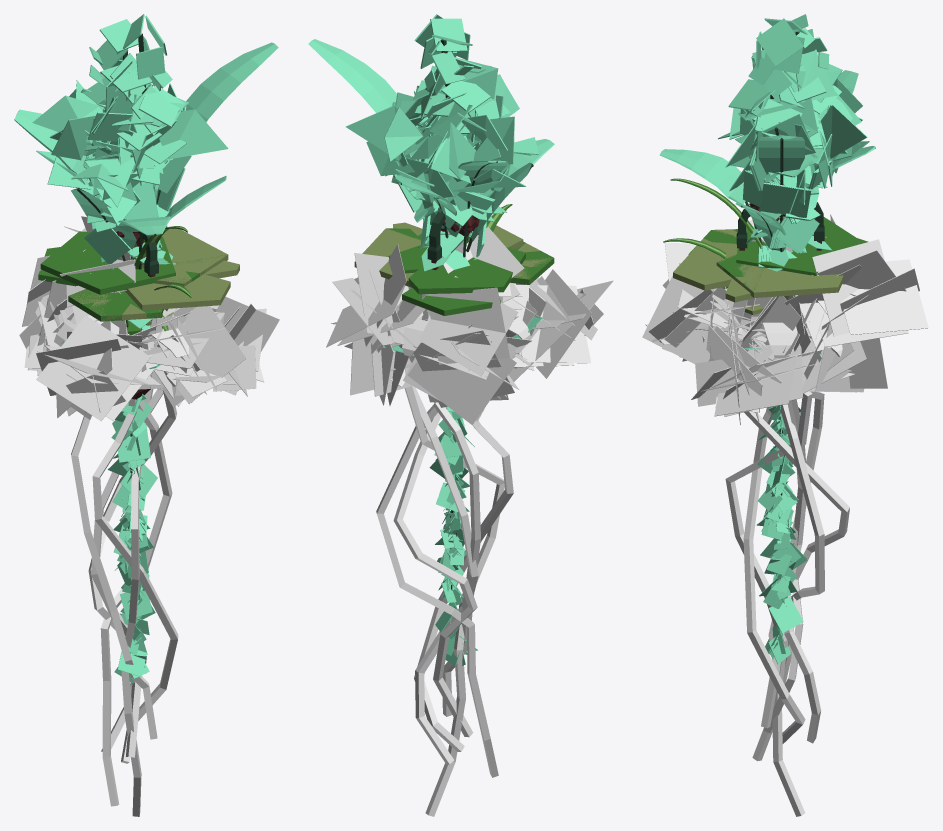
File: Plants.fbx
The picture shows the model from 3 angles, left to right: view 1: azimuth 30°, elevation 25°; view 2: azimuth 150°, elevation 25°; view 3: azimuth 270°, elevation 25°; orthographic projection.
Parts seen in each view (by area): view 1: Sweet Berry Bush 1 Stage 4, Sweet Berry Bush 2 Stage 4, Pond Boats 1 Stage 3, Spice Bark 2 Stage 4, Spice Bark 1 Stage 4, Bird of Paradise 3, Blood Berry 1 Stage 4, Pond Boats 3 Stage 3, Ivy 1, Blood Berry 2 Stage 4, Vine 4, Vine 5 (+15 smaller); view 2: Sweet Berry Bush 1 Stage 4, Sweet Berry Bush 2 Stage 4, Spice Bark 2 Stage 4, Spice Bark 1 Stage 4, Bird of Paradise 3, Pond Boats 1 Stage 3, Sweet Berry Bush 2 Stage 3, Vine 4, Vine 6, Vine 2, Vine 1, Blood Berry 1 Stage 4 (+14 smaller); view 3: Sweet Berry Bush 1 Stage 4, Sweet Berry Bush 2 Stage 4, Blood Berry 2 Stage 4, Pond Boats 1 Stage 3, Spice Bark 2 Stage 4, Sweet Berry Bush 2 Stage 3, Spice Bark 1 Stage 4, Bird of Paradise 3, Blood Berry 1 Stage 4, Vine 5, Vine 1, Ivy 2 (+14 smaller).
Boxes of the visible parts, <box> form: Sweet Berry Bush 1 Stage 4: <box>19,228,264,421</box>; Sweet Berry Bush 2 Stage 4: <box>22,216,279,419</box>; Pond Boats 1 Stage 3: <box>40,231,239,310</box>; Spice Bark 2 Stage 4: <box>32,56,189,226</box>; Spice Bark 1 Stage 4: <box>36,60,228,219</box>; Bird of Paradise 3: <box>14,42,278,269</box>; Blood Berry 1 Stage 4: <box>83,19,191,259</box>; Pond Boats 3 Stage 3: <box>68,226,228,327</box>; Ivy 1: <box>107,400,157,683</box>; Blood Berry 2 Stage 4: <box>80,14,179,263</box>; Vine 4: <box>100,400,172,806</box>; Vine 5: <box>92,398,178,763</box>; Sweet Berry Bush 1 Stage 4: <box>331,243,597,424</box>; Sweet Berry Bush 2 Stage 4: <box>326,227,613,407</box>; Spice Bark 2 Stage 4: <box>384,57,538,210</box>; Spice Bark 1 Stage 4: <box>345,72,531,211</box>; Bird of Paradise 3: <box>308,39,554,257</box>; Pond Boats 1 Stage 3: <box>388,222,525,294</box>; Sweet Berry Bush 2 Stage 3: <box>337,276,573,405</box>; Vine 4: <box>376,404,498,777</box>; Vine 6: <box>393,412,477,737</box>; Vine 2: <box>412,386,478,764</box>; Vine 1: <box>404,386,504,816</box>; Blood Berry 1 Stage 4: <box>398,35,503,252</box>; Sweet Berry Bush 1 Stage 4: <box>642,236,919,416</box>; Sweet Berry Bush 2 Stage 4: <box>645,214,928,424</box>; Blood Berry 2 Stage 4: <box>728,18,819,261</box>; Pond Boats 1 Stage 3: <box>673,217,863,302</box>; Spice Bark 2 Stage 4: <box>729,47,869,204</box>; Sweet Berry Bush 2 Stage 3: <box>664,287,908,421</box>; Spice Bark 1 Stage 4: <box>718,49,867,213</box>; Bird of Paradise 3: <box>659,70,858,252</box>; Blood Berry 1 Stage 4: <box>743,14,829,261</box>; Vine 5: <box>743,406,805,743</box>; Vine 1: <box>725,391,812,816</box>; Ivy 2: <box>757,410,800,608</box>.
Size of the model in its own units: 304 by 892 by 290.
